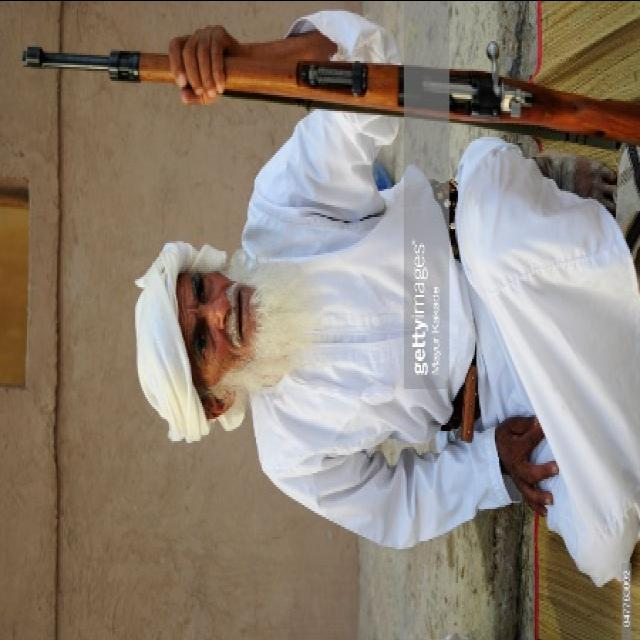rifle: (15, 29, 638, 163)
